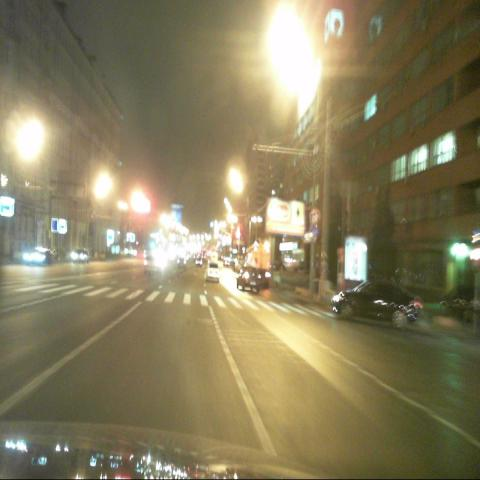3_18: (310, 209, 320, 225)
